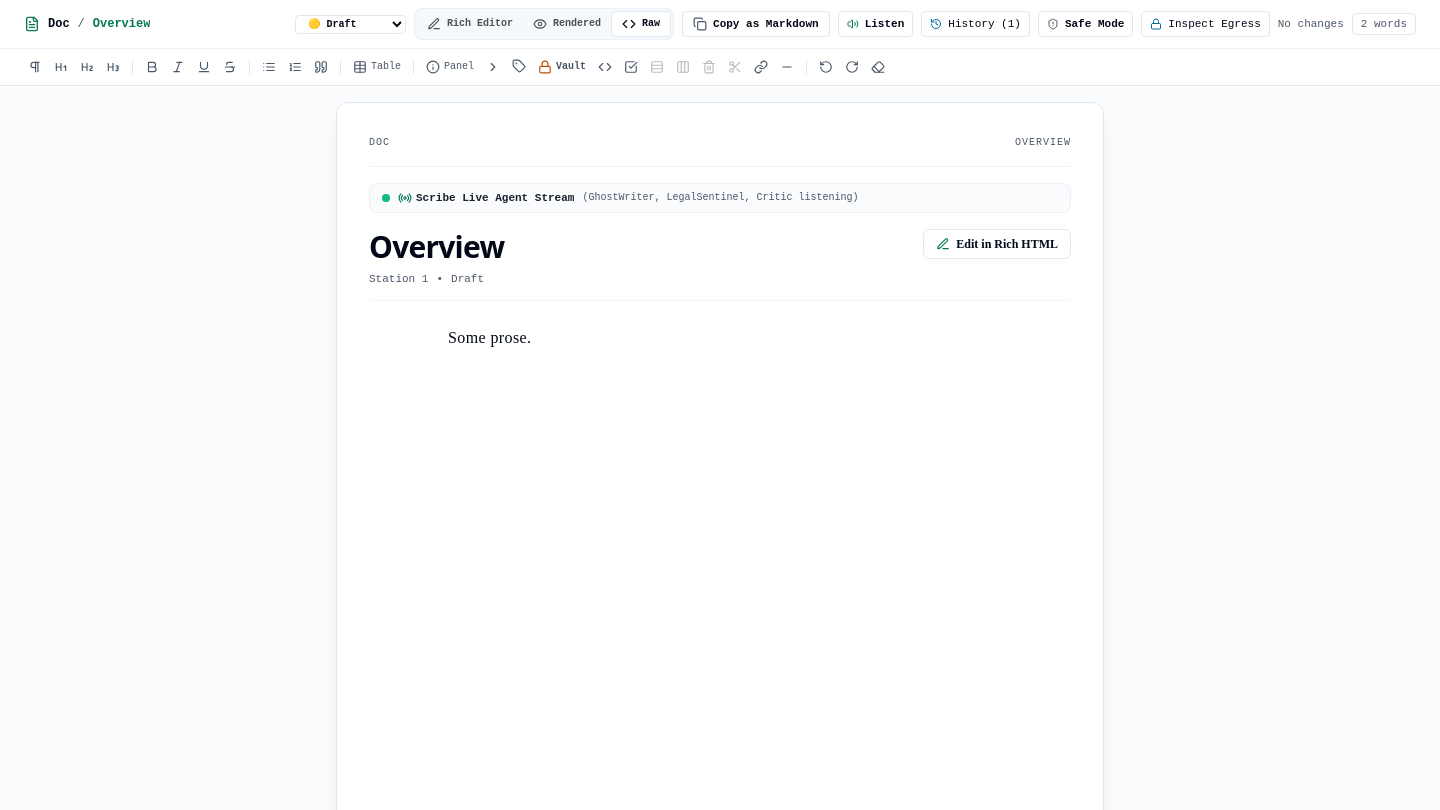
it: Insert Link › closes on Escape without inserting anything
Press the mouse on the button named "Insert Link" at [761, 67], box [750,56,772,78]
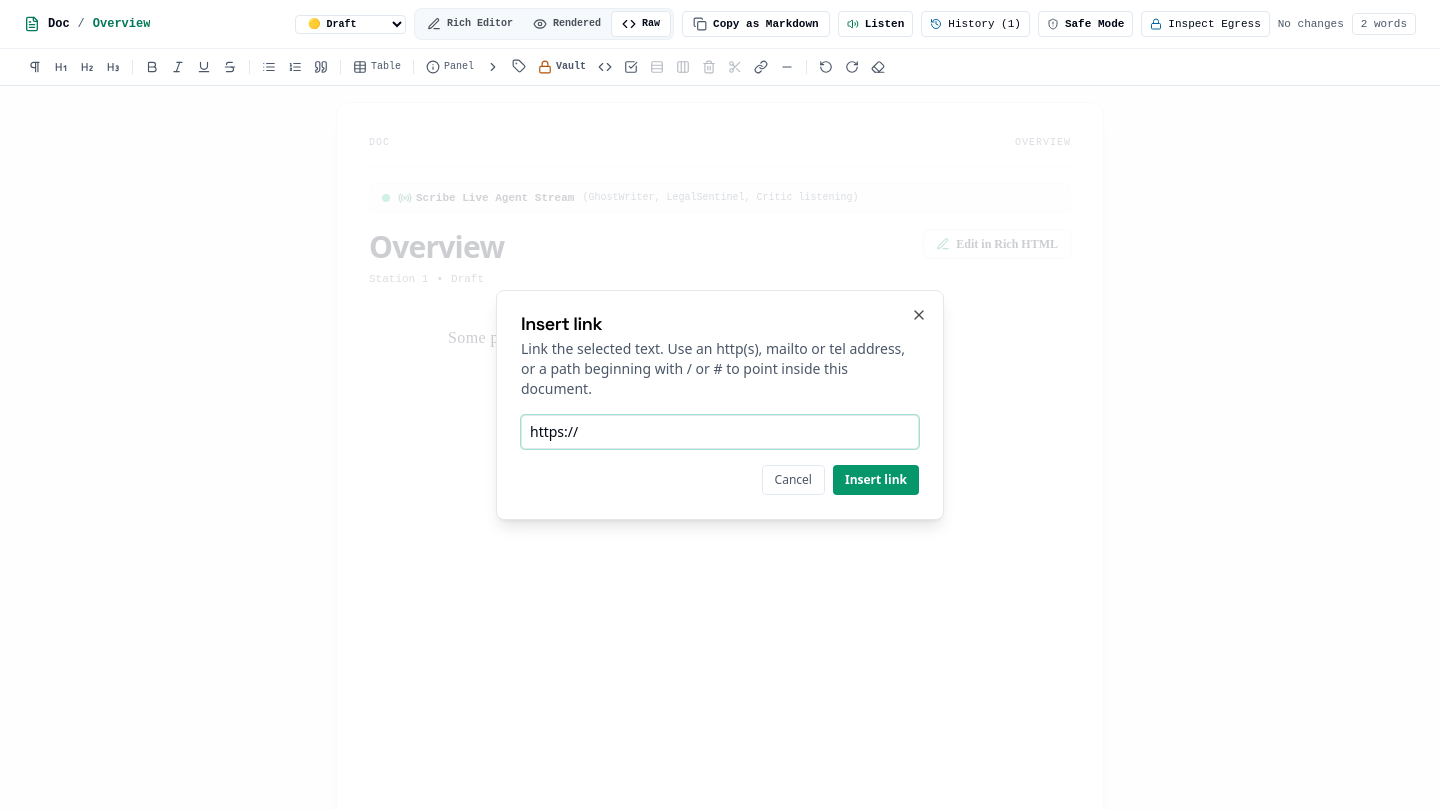
Expected: the dialog with test id "scribe-link-dialog" is shown
# A native prompt could not be dismissed this way, or tested at all.
Press Escape in the dialog, box [496,290,944,520]
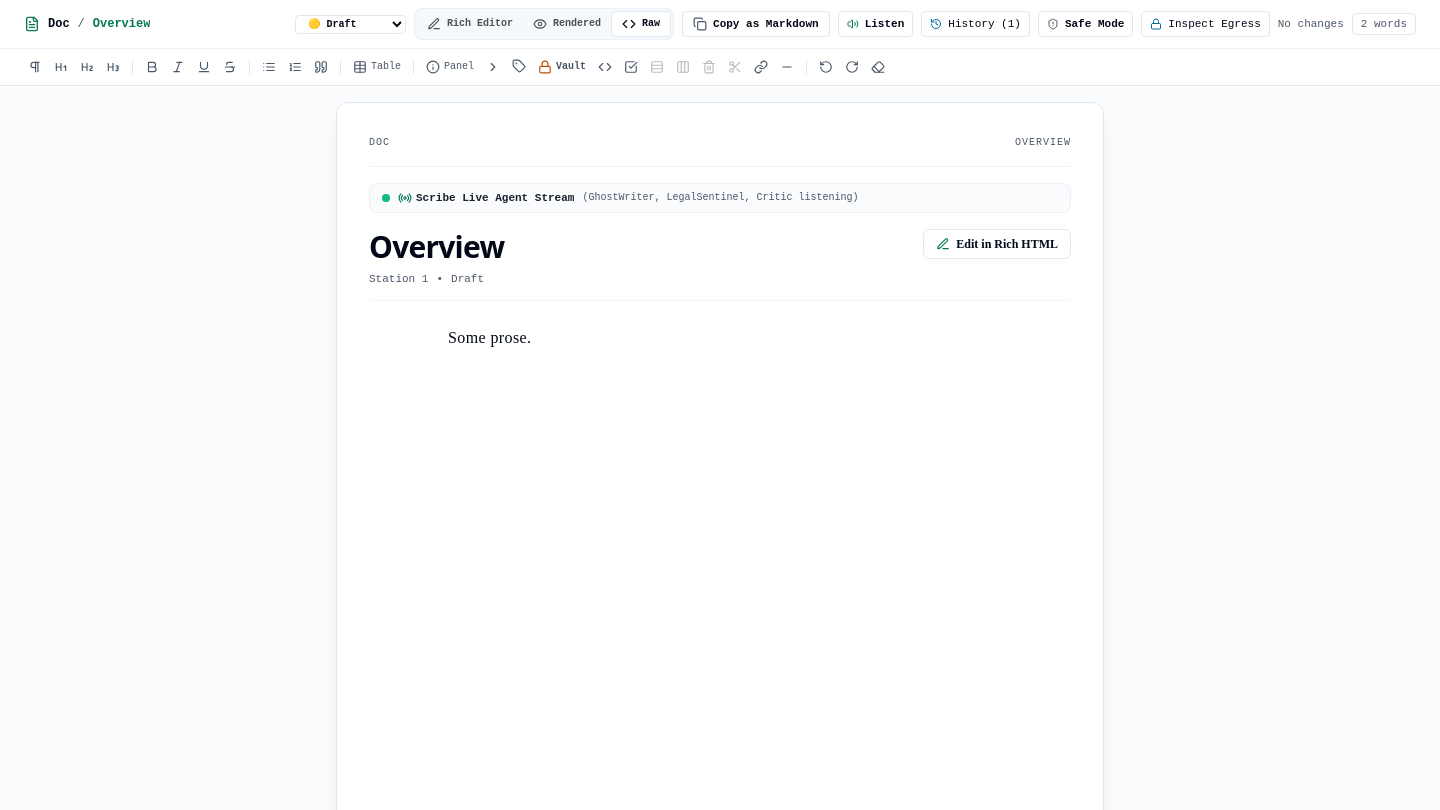
Expected: the dialog with test id "scribe-link-dialog" is gone
